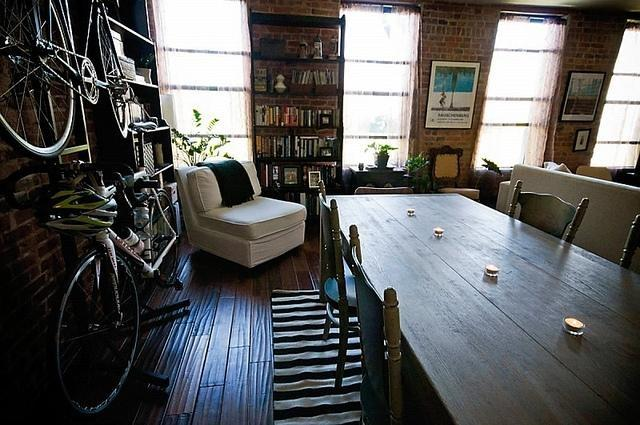bicycle: (4, 162, 182, 416), (1, 1, 136, 161)
